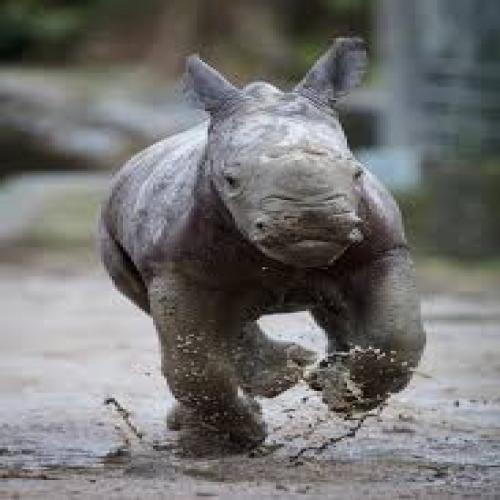rhino-endangered: (94, 35, 428, 461)
